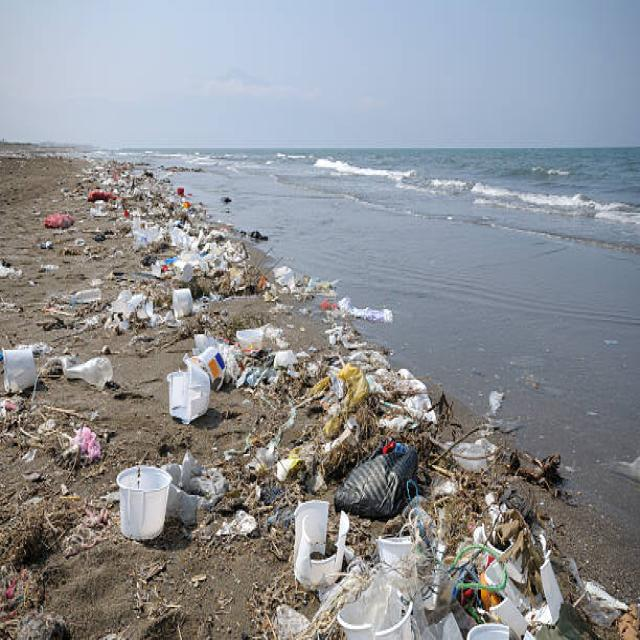plastic: (284, 536, 510, 640), (111, 454, 187, 538), (160, 235, 212, 312), (158, 366, 215, 430), (229, 331, 298, 383), (60, 356, 120, 396), (1, 345, 40, 388), (72, 286, 109, 308)
trash: (319, 384, 420, 510)
